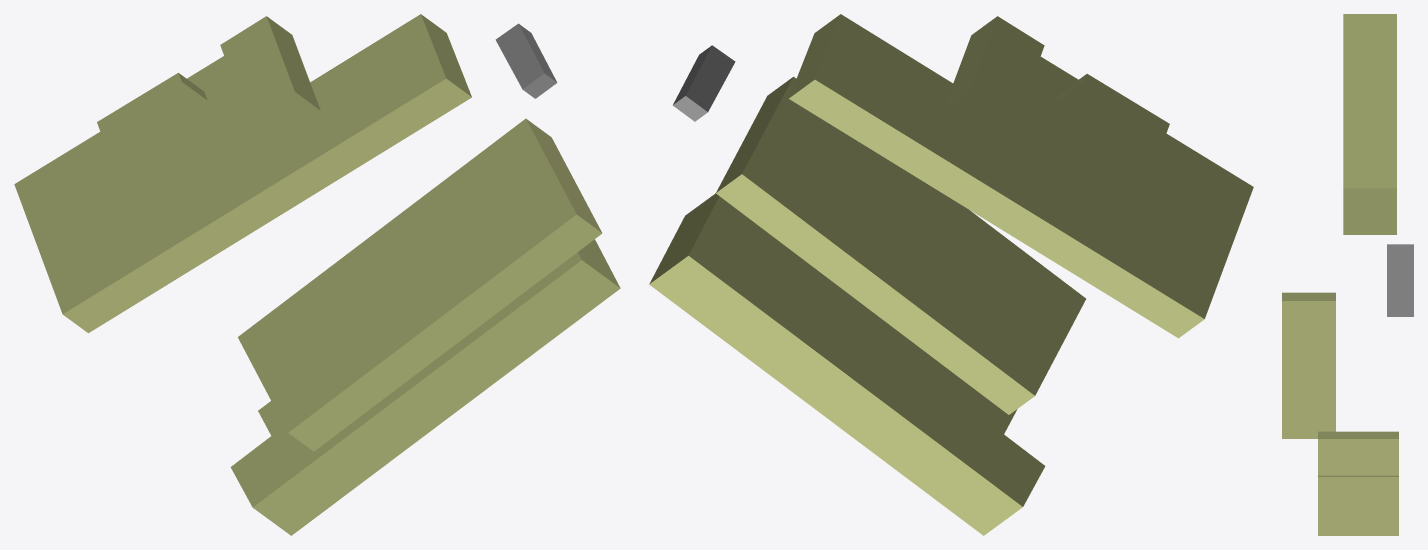
3 views of the same model, side by side, from view 1: azimuth 30°, elevation 25°; view 2: azimuth 150°, elevation 25°; view 3: azimuth 270°, elevation 25° (orthographic). The views are drawn at different scales.
Parts seen in each view (by area): view 1: 0_1_1_3_3_0_0_3; view 2: 0_1_1_3_3_0_0_3; view 3: 0_1_1_3_3_0_0_3.
Part boxes in pixels (x1,y1,x2,y2): 0_1_1_3_3_0_0_3: [14, 14, 620, 535]; 0_1_1_3_3_0_0_3: [649, 14, 1253, 535]; 0_1_1_3_3_0_0_3: [1282, 14, 1413, 535].
Bounding box in the file's own units: 76.19 × 62.63 × 14.66.
